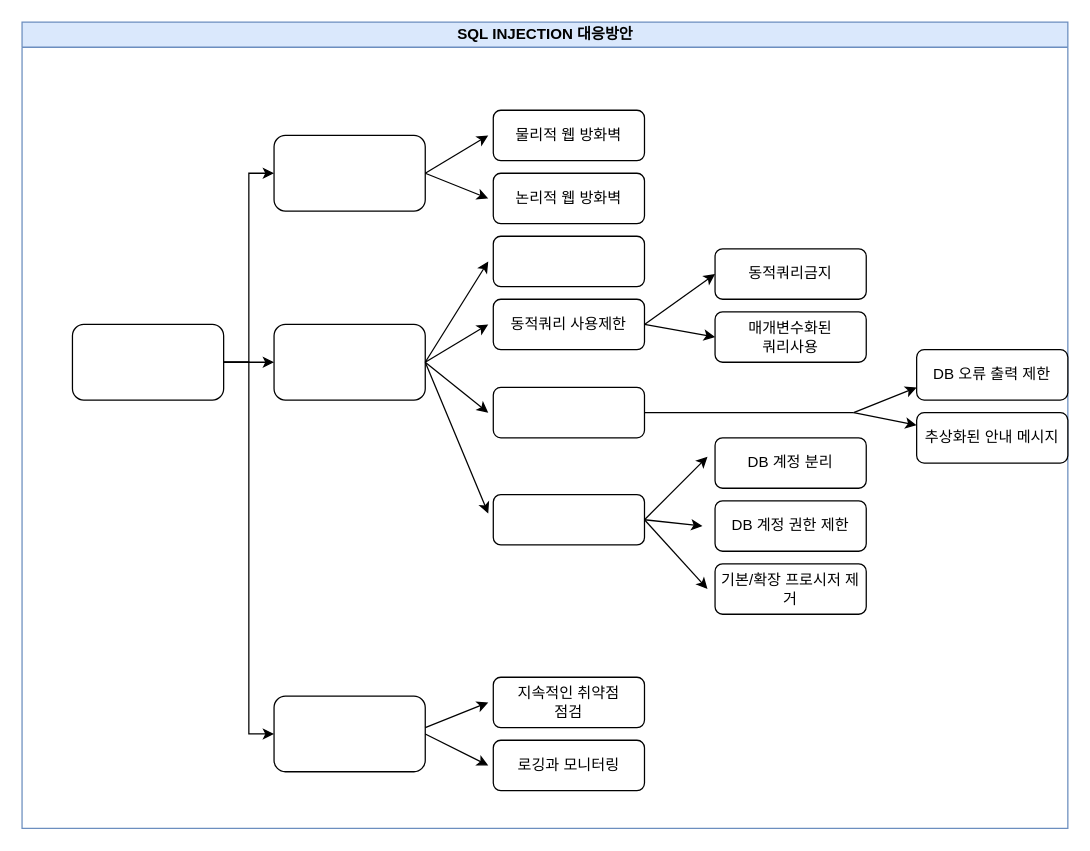
This 1090x851 diagram has some shape labels left out. The shapes that lost their labels are listed below. From the top down, each one's centre as x and y in pixels, then its label:
the point at 349,172: 웹 방화벽 도입
the point at 568,261: 입력값 유효성 검사
the point at 147,361: SQL INJECTION 기술적 대응방안
the point at 349,361: 시큐어 코딩
the point at 568,412: 오류메시지 출력 제한
the point at 568,519: DB 보안
the point at 349,733: 취약점 점검과 모니터링
